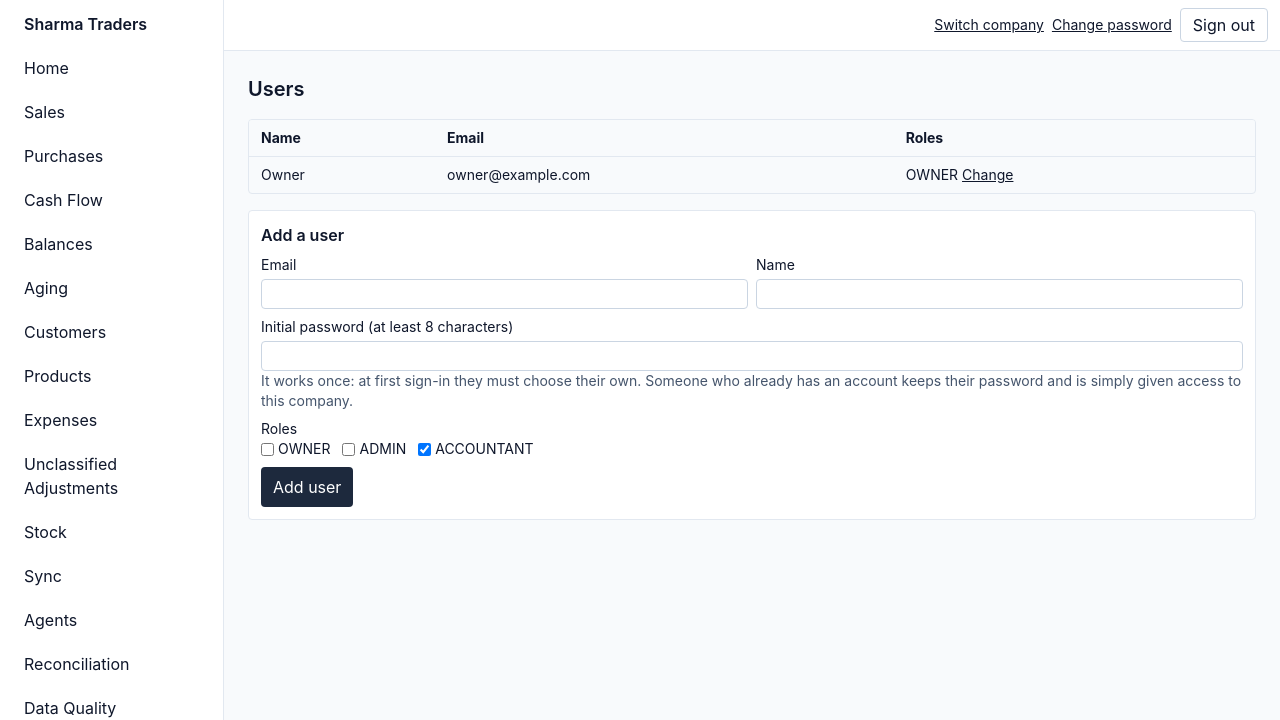
Users (RBAC-1.2) › says the initial password works once, and shows the last-Owner refusal
Expected: the text "It works once: at first sign-in they must choose their own" is shown, [261, 372, 1241, 409]
Click the button "Change" at (988,175), box [962, 165, 1013, 185]
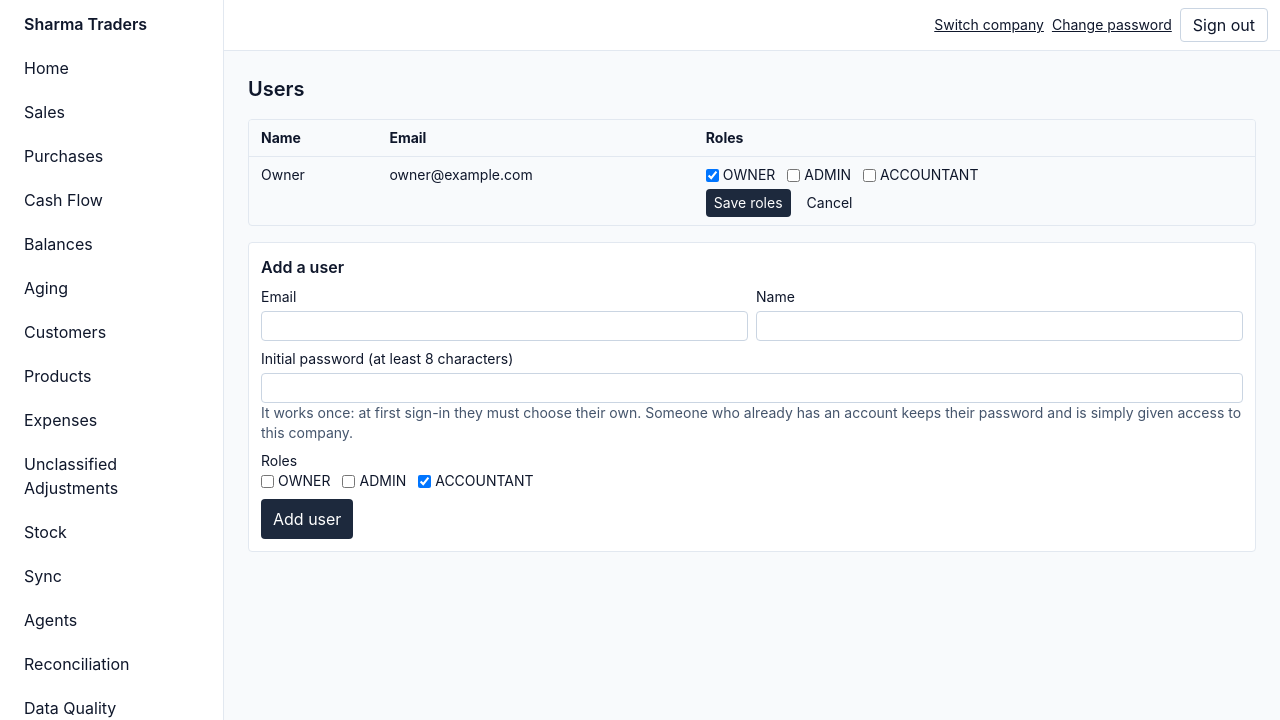
Click the checkbox labelled "OWNER" in the row of "owner@example.com" at (712,175), box [706, 168, 719, 182]
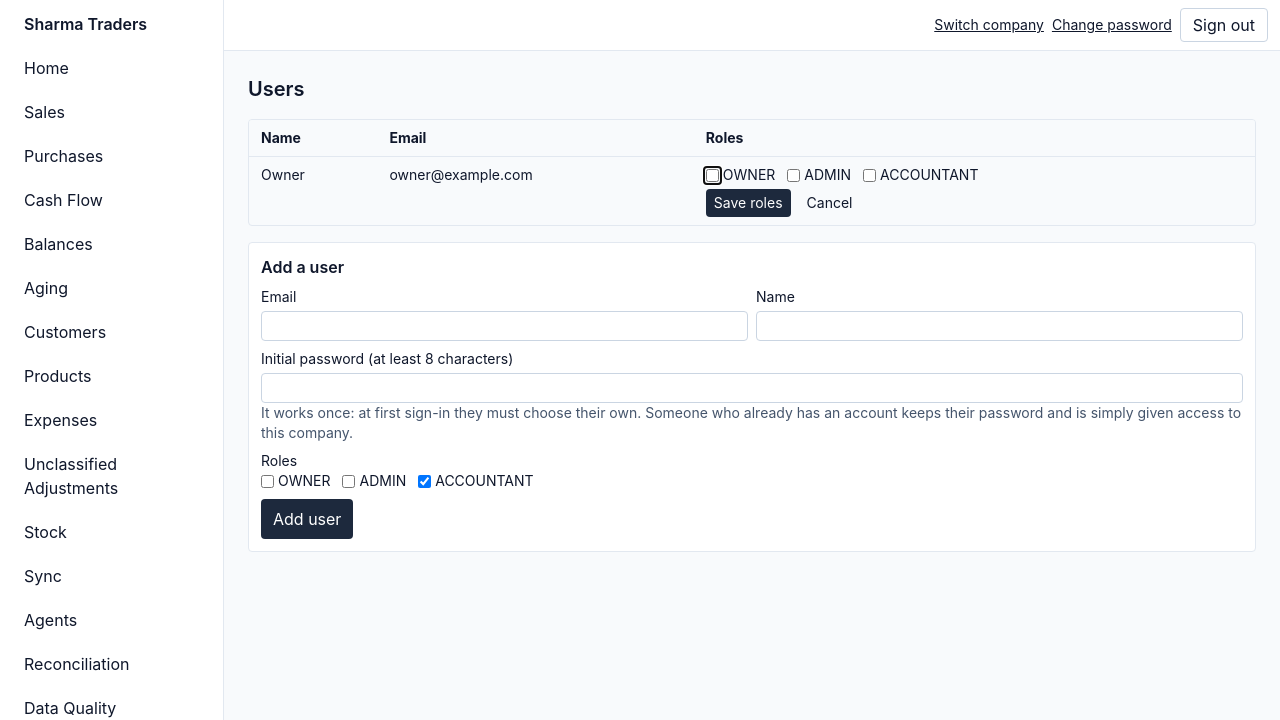
Click the checkbox labelled "ADMIN" in the row of "owner@example.com" at (794,175), box [787, 168, 800, 182]
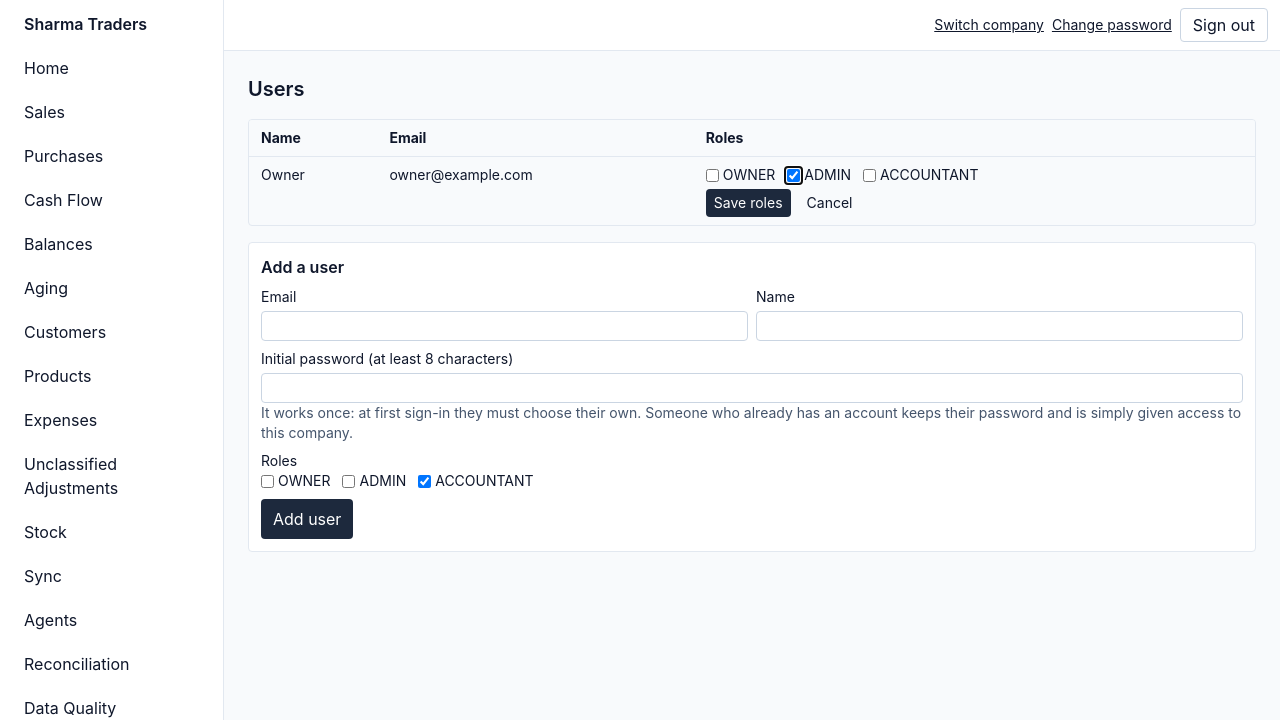
Click the button "Save roles" at (748,203), box [706, 189, 790, 217]
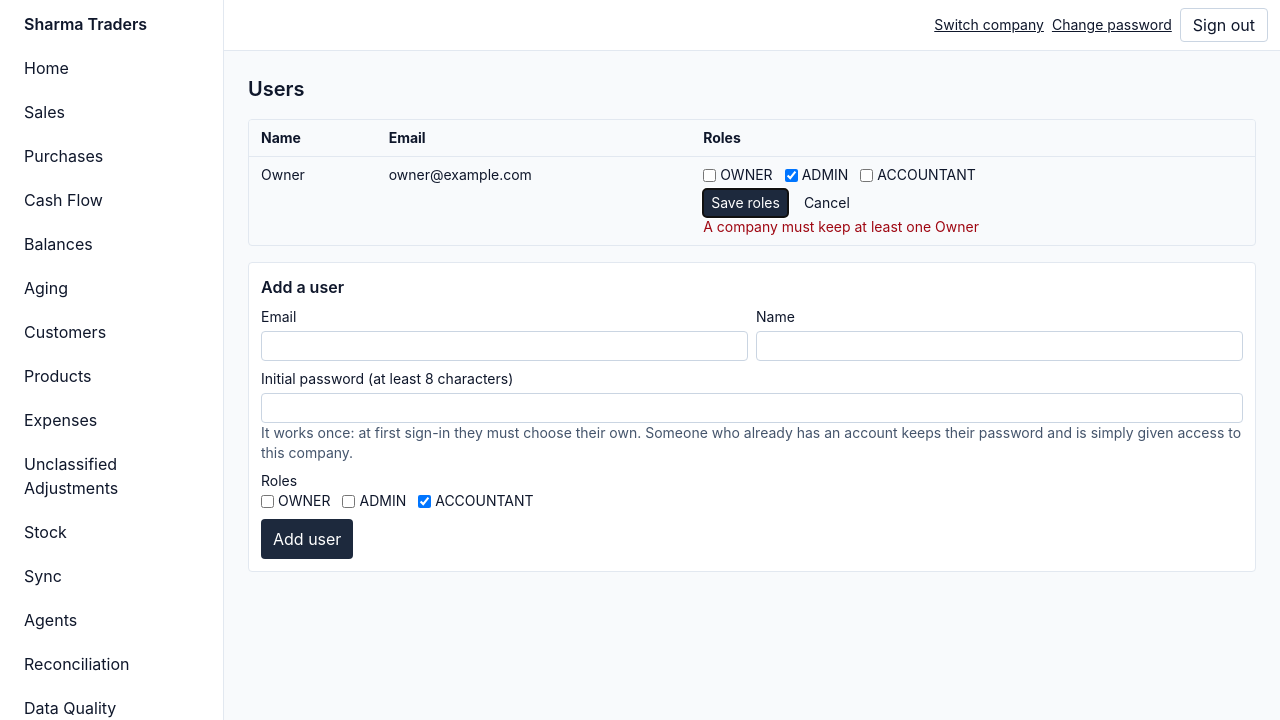
Expected: the text "A company must keep at least one Owner" is shown, [703, 218, 979, 235]
